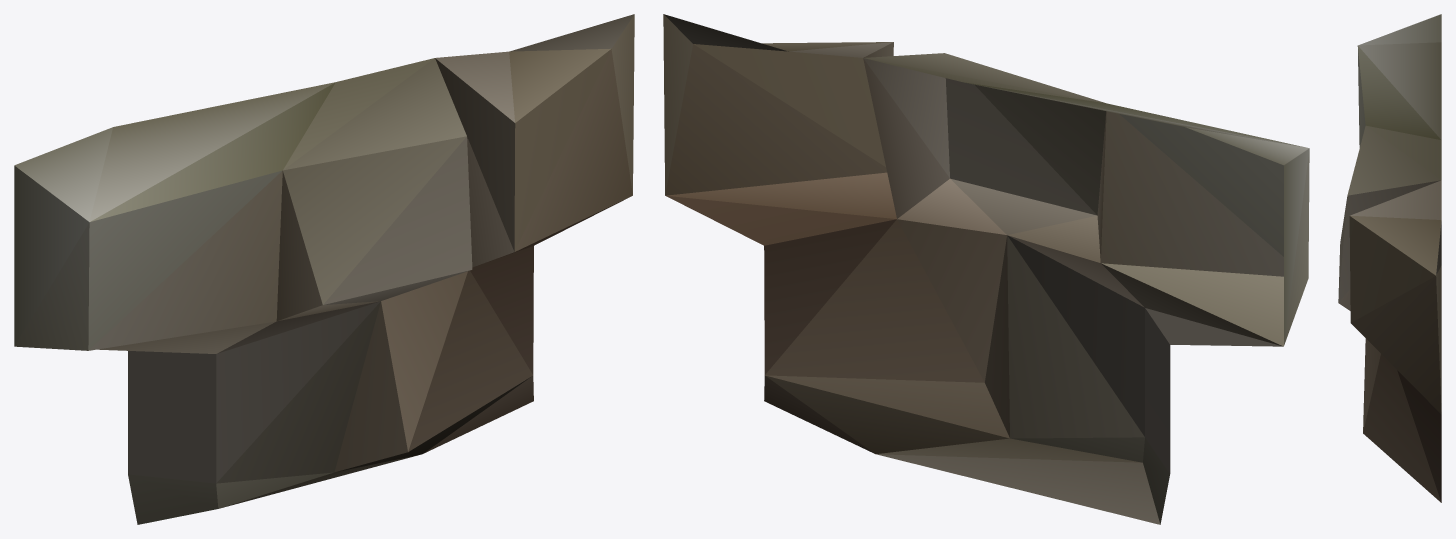
Rendered from Wall_UG-BrickChunkC.fbx.
3 views of the same model, side by side, from view 1: azimuth 30°, elevation 25°; view 2: azimuth 150°, elevation 25°; view 3: azimuth 270°, elevation 25° (orthographic). The views are drawn at different scales.
Visible parts, largest first — view 1: Wall_UG-BrickChunkC; view 2: Wall_UG-BrickChunkC; view 3: Wall_UG-BrickChunkC.
Boxes of the visible parts, bbox=[...] form: Wall_UG-BrickChunkC: bbox=[14, 14, 634, 524]; Wall_UG-BrickChunkC: bbox=[663, 14, 1309, 524]; Wall_UG-BrickChunkC: bbox=[1338, 14, 1441, 502].
Bounding box in the file's own units: 201 × 125 × 34.86.
